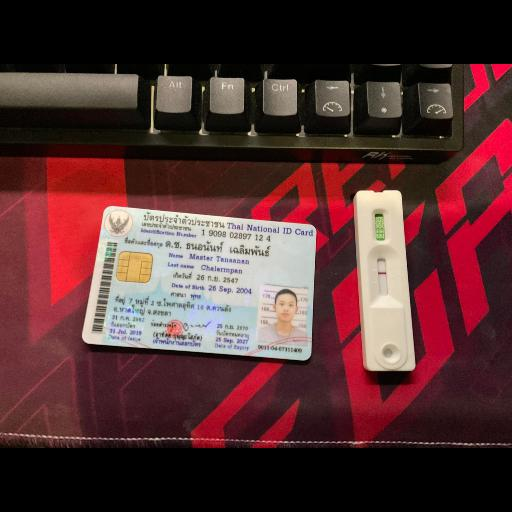Neg: (356, 190, 416, 371)
